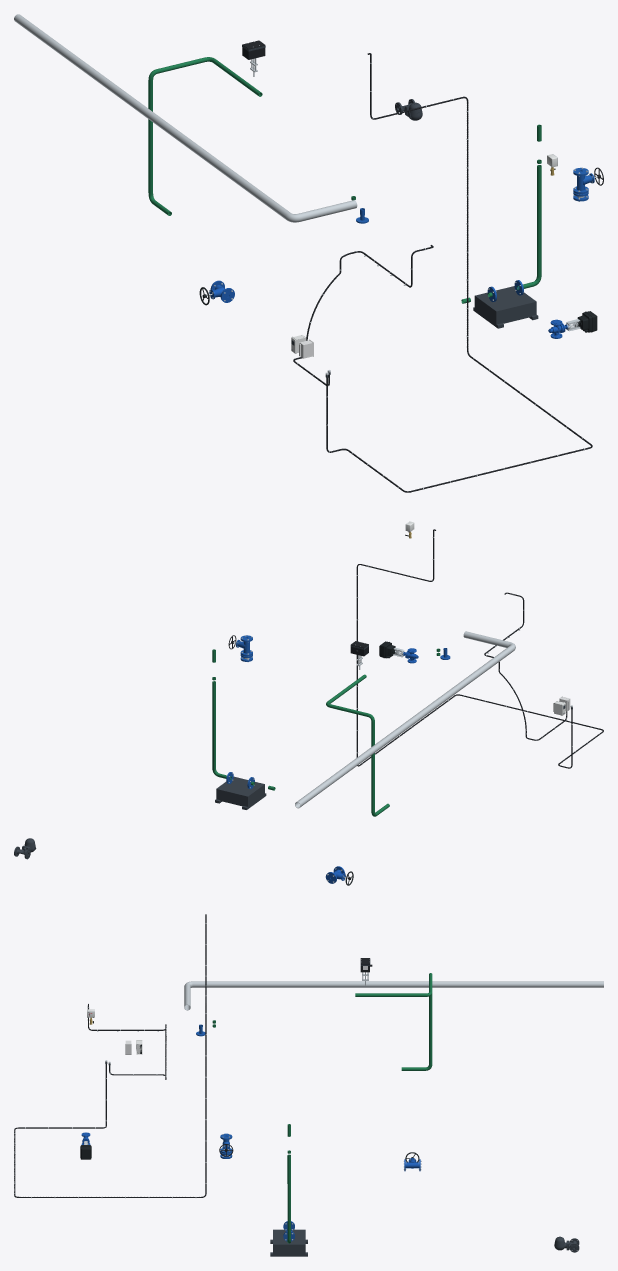
The picture shows the model from 3 angles, top to bottom: view 1: azimuth 30°, elevation 25°; view 2: azimuth 150°, elevation 25°; view 3: azimuth 270°, elevation 25°; orthographic projection. The views are drawn at different scales.
Parts seen in each view (by area): view 1: safety_vent_1 / steel, gpz_drive_cable / black, pump_branch_2 / dark, from_economizer / green, pump_branch_2 / green, bcv925 / bcv925_0.npz, wiring_lp200 / black; view 2: safety_vent_1 / steel, gpz_drive_cable / black, pump_branch_2 / dark, from_economizer / green, pump_branch_2 / green; view 3: safety_vent_1 / steel, gpz_drive_cable / black, pump_branch_2 / dark, from_economizer / green.
Part boxes in pixels (x1,y1,x2,y2): safety_vent_1 / steel: (14, 14, 357, 222); gpz_drive_cable / black: (326, 53, 592, 492); pump_branch_2 / dark: (473, 286, 538, 328); from_economizer / green: (148, 57, 247, 215); pump_branch_2 / green: (461, 124, 541, 303); bcv925 / bcv925_0.npz: (548, 311, 597, 338); wiring_lp200 / black: (293, 245, 433, 385); safety_vent_1 / steel: (295, 631, 515, 808); gpz_drive_cable / black: (356, 529, 603, 768); pump_branch_2 / dark: (215, 776, 266, 809); from_economizer / green: (326, 682, 389, 816); pump_branch_2 / green: (212, 649, 275, 790); safety_vent_1 / steel: (184, 981, 603, 1010); gpz_drive_cable / black: (14, 914, 206, 1197); pump_branch_2 / dark: (270, 1229, 307, 1256); from_economizer / green: (375, 973, 432, 1070).
Size of the model in its own units: 4.25 by 3.47 by 7.03.
